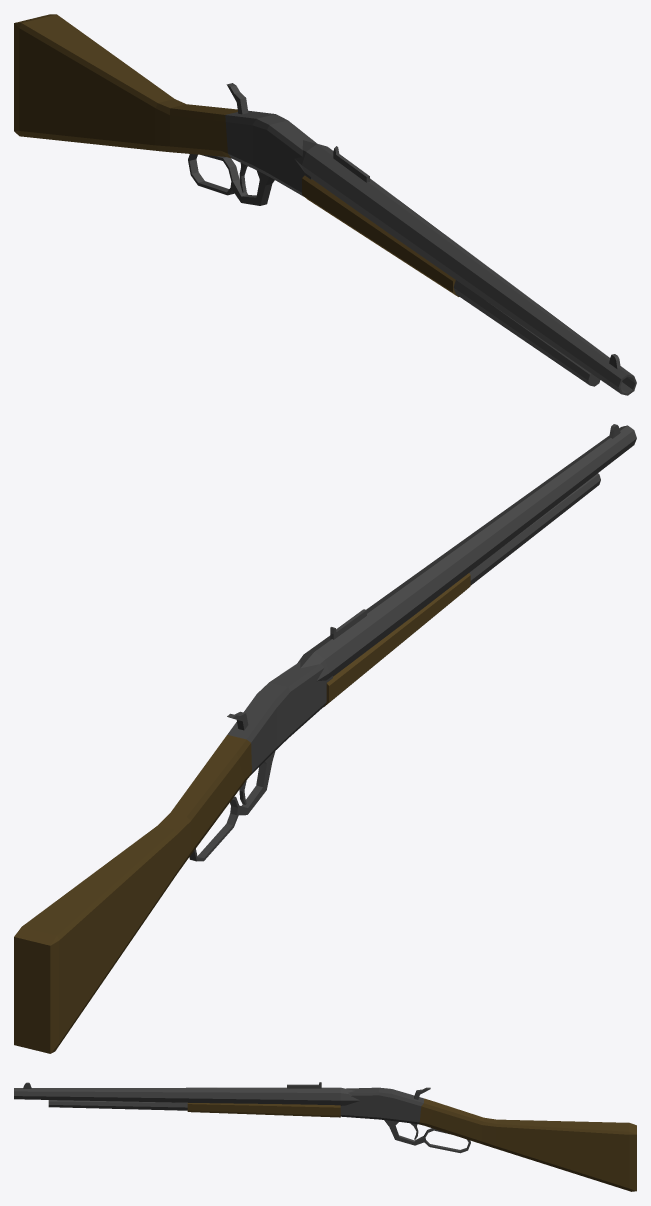
The model's file is repeater.glb.
The picture shows the model from 3 angles, top to bottom: view 1: azimuth 30°, elevation 25°; view 2: azimuth 150°, elevation 25°; view 3: azimuth 270°, elevation 25°; orthographic projection. The views are drawn at different scales.
Parts seen in each view (by area): view 1: reciever + stock, barrel, foregrip, ammo tube, lever; view 2: reciever + stock, barrel, foregrip, ammo tube, lever; view 3: reciever + stock, barrel, foregrip, ammo tube, lever, rear sight.
Boxes of the visible parts, x1,y1,x2,y2 form: reciever + stock: [14, 14, 317, 196]; barrel: [295, 140, 636, 395]; foregrip: [302, 175, 459, 296]; ammo tube: [453, 280, 600, 386]; lever: [188, 154, 274, 205]; reciever + stock: [14, 662, 332, 1053]; barrel: [297, 425, 636, 681]; foregrip: [323, 573, 470, 707]; ammo tube: [469, 473, 600, 585]; lever: [189, 751, 275, 861]; reciever + stock: [340, 1087, 636, 1191]; barrel: [14, 1087, 360, 1105]; foregrip: [187, 1103, 340, 1117]; ammo tube: [48, 1100, 187, 1110]; lever: [384, 1120, 470, 1153]; rear sight: [287, 1082, 321, 1088].
Size of the model in its own units: 0.1677 by 0.8103 by 4.33.
